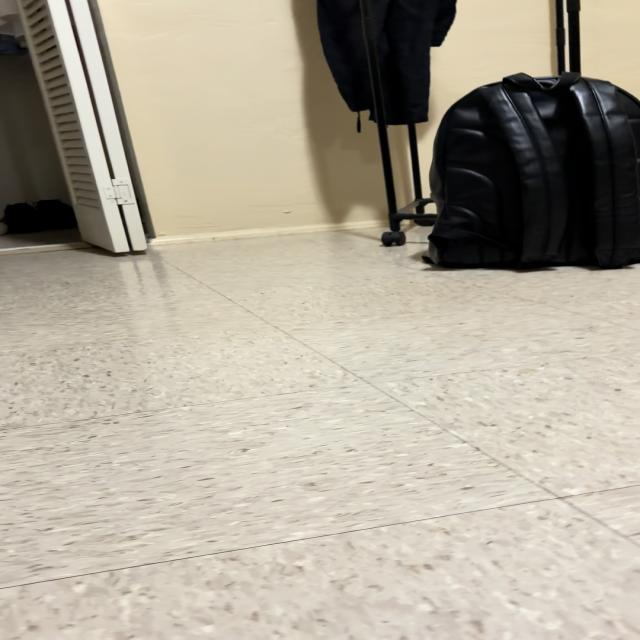backpack: (425, 72, 639, 268)
